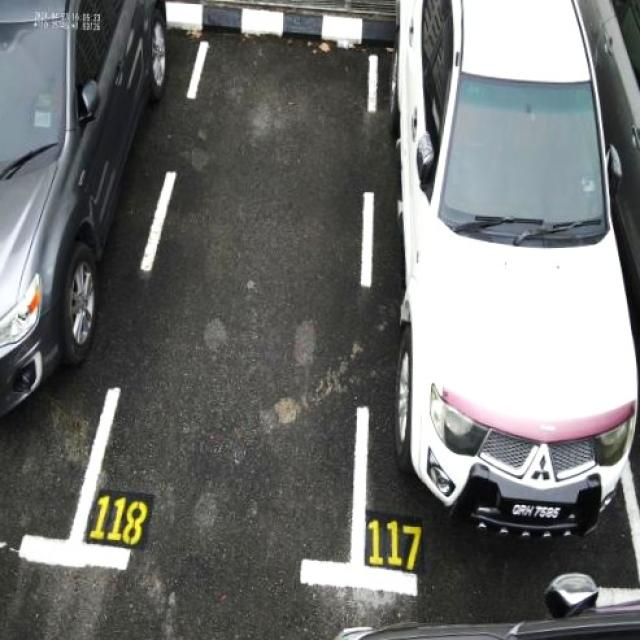Legalparking: (0, 0, 640, 565), (363, 0, 639, 560)
illegalparking: (276, 564, 640, 640)
